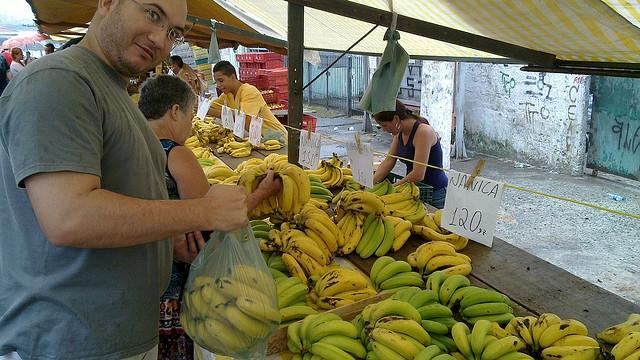banana: (190, 290, 238, 330), (373, 316, 433, 347), (365, 298, 422, 330), (230, 296, 282, 328), (307, 333, 367, 359), (368, 328, 419, 358), (539, 319, 588, 349), (306, 320, 358, 348), (200, 285, 238, 323), (594, 313, 640, 344), (416, 243, 456, 275), (360, 211, 386, 259), (280, 166, 310, 207), (302, 227, 332, 266), (303, 219, 338, 252), (458, 290, 506, 314), (532, 314, 562, 352), (374, 260, 412, 290), (286, 240, 326, 267), (490, 322, 528, 350), (319, 276, 366, 298), (344, 192, 387, 216), (318, 268, 359, 293), (439, 274, 471, 306), (302, 214, 339, 241), (446, 286, 488, 309), (423, 255, 471, 275), (286, 248, 319, 276), (471, 320, 493, 360), (356, 217, 378, 256), (370, 256, 396, 289), (611, 331, 640, 360), (414, 241, 456, 261), (278, 284, 310, 310), (420, 226, 460, 246), (510, 317, 534, 350), (377, 276, 425, 292), (376, 215, 394, 257), (298, 314, 319, 350), (542, 346, 600, 359), (461, 302, 509, 317), (548, 334, 599, 348), (269, 260, 308, 277), (286, 174, 302, 215), (332, 288, 378, 302), (408, 290, 438, 310), (304, 253, 330, 276), (400, 201, 427, 223), (241, 173, 267, 195), (316, 296, 356, 310), (282, 229, 307, 250), (277, 276, 303, 296), (390, 202, 420, 218), (440, 264, 473, 278), (390, 230, 411, 252), (380, 192, 415, 205), (344, 202, 381, 214), (205, 168, 240, 180), (236, 170, 262, 186), (427, 318, 458, 331), (423, 213, 442, 234), (325, 272, 357, 284), (344, 214, 356, 246), (401, 286, 422, 304), (414, 345, 441, 359), (422, 320, 448, 334), (362, 304, 378, 326), (298, 207, 316, 226), (386, 199, 414, 211), (362, 212, 376, 236), (352, 314, 364, 340), (268, 229, 282, 251), (371, 180, 388, 197), (483, 334, 499, 351), (341, 214, 354, 234), (388, 272, 423, 279), (230, 145, 252, 156), (466, 334, 476, 358), (260, 240, 278, 253), (310, 186, 330, 195), (252, 224, 274, 232), (268, 252, 279, 267), (223, 175, 241, 184), (244, 160, 267, 167), (390, 217, 404, 228), (360, 326, 367, 348), (228, 143, 252, 149), (250, 220, 270, 227), (248, 166, 265, 174), (270, 255, 282, 266), (226, 132, 239, 142), (184, 139, 200, 147), (273, 156, 288, 164), (264, 140, 284, 146), (266, 144, 284, 150), (340, 167, 352, 176), (422, 302, 442, 307), (302, 203, 318, 209), (198, 160, 216, 165), (256, 144, 270, 150), (214, 133, 226, 140), (192, 146, 208, 151), (201, 136, 209, 146), (208, 130, 218, 137), (198, 158, 215, 162), (345, 186, 356, 192), (325, 173, 332, 182), (332, 156, 338, 166), (202, 129, 212, 134), (205, 117, 215, 121), (196, 122, 205, 126), (200, 140, 204, 148), (226, 140, 231, 144), (261, 91, 264, 94), (274, 106, 278, 108), (196, 118, 200, 120)
